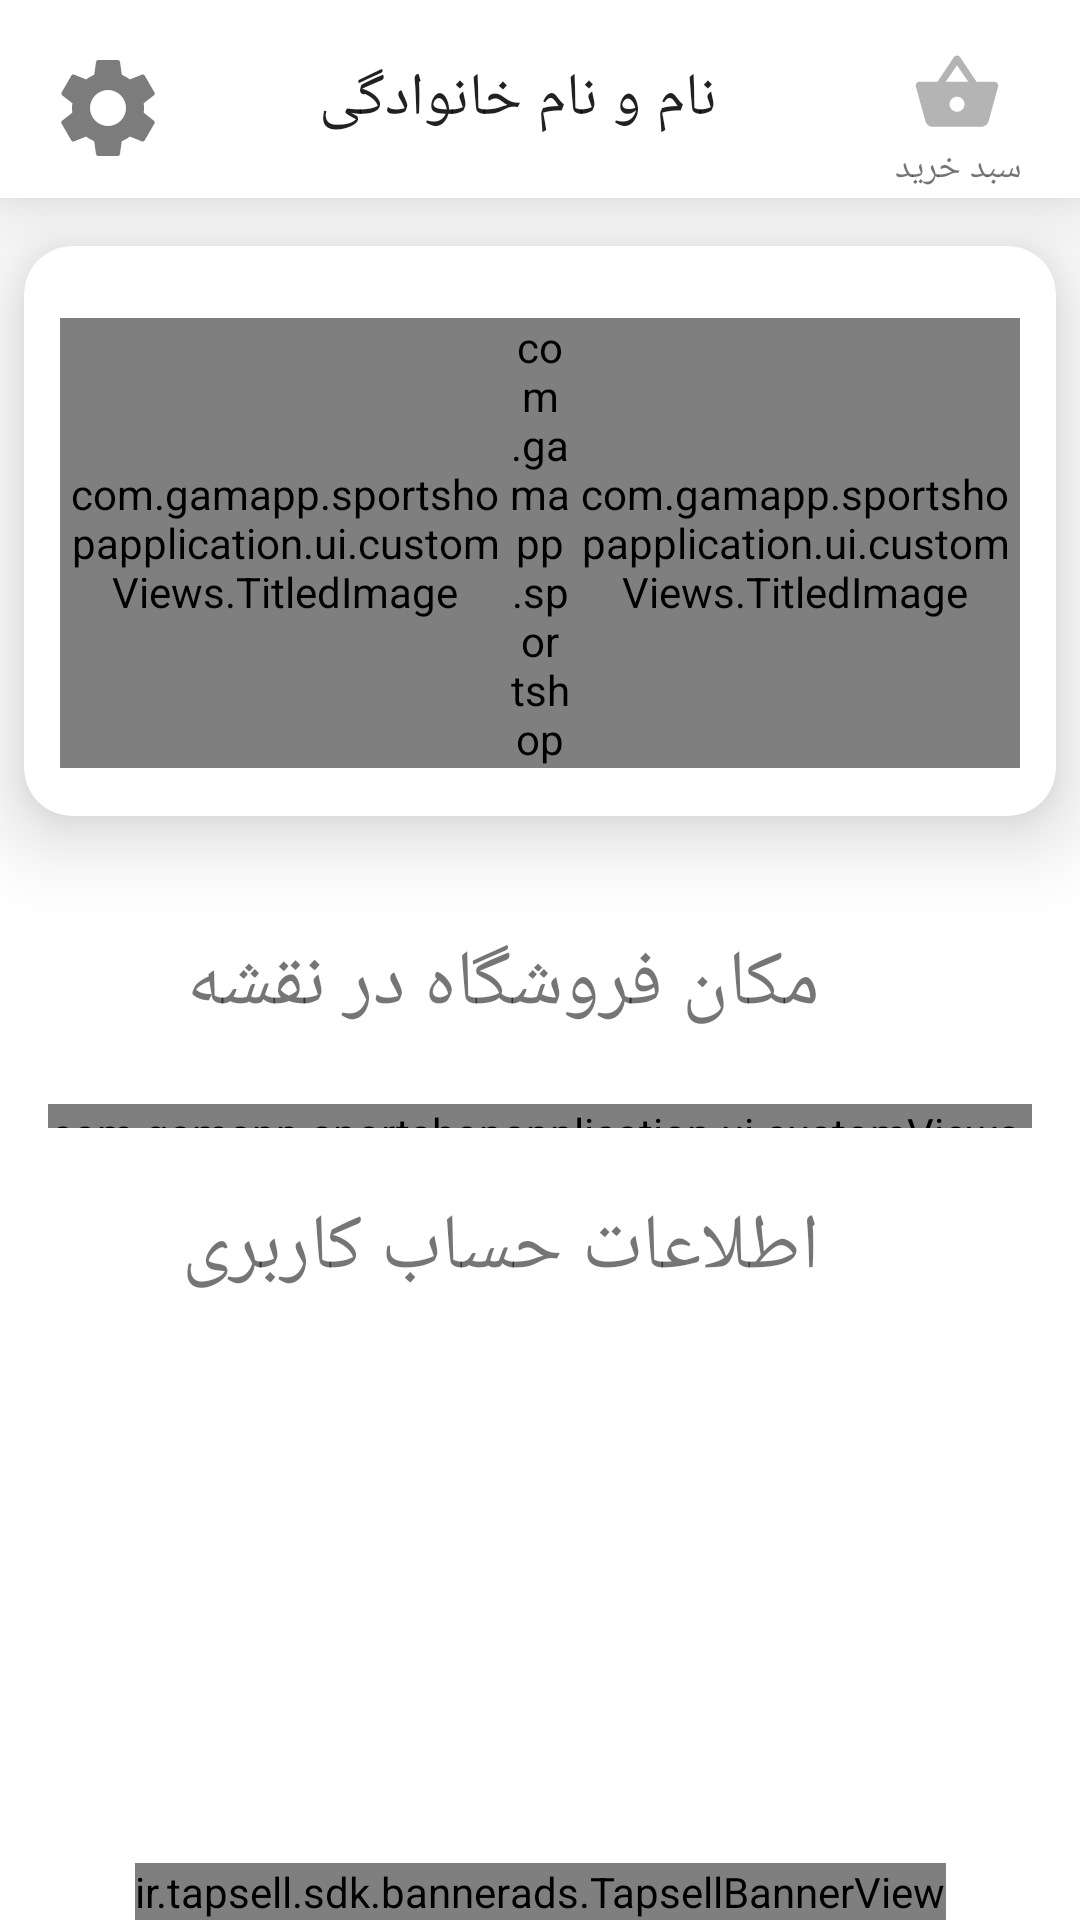

Icon click points for this 1080×1920 phone screenshot, format (x=x, y=y):
setting: (x=108, y=108)
